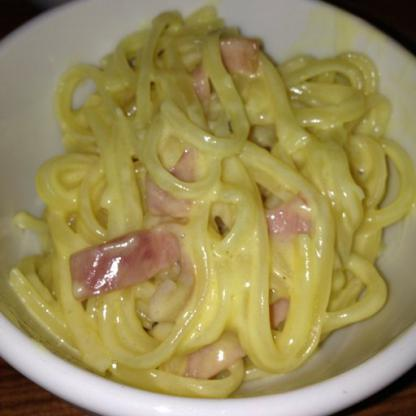Noodles: (0, 2, 415, 399)
